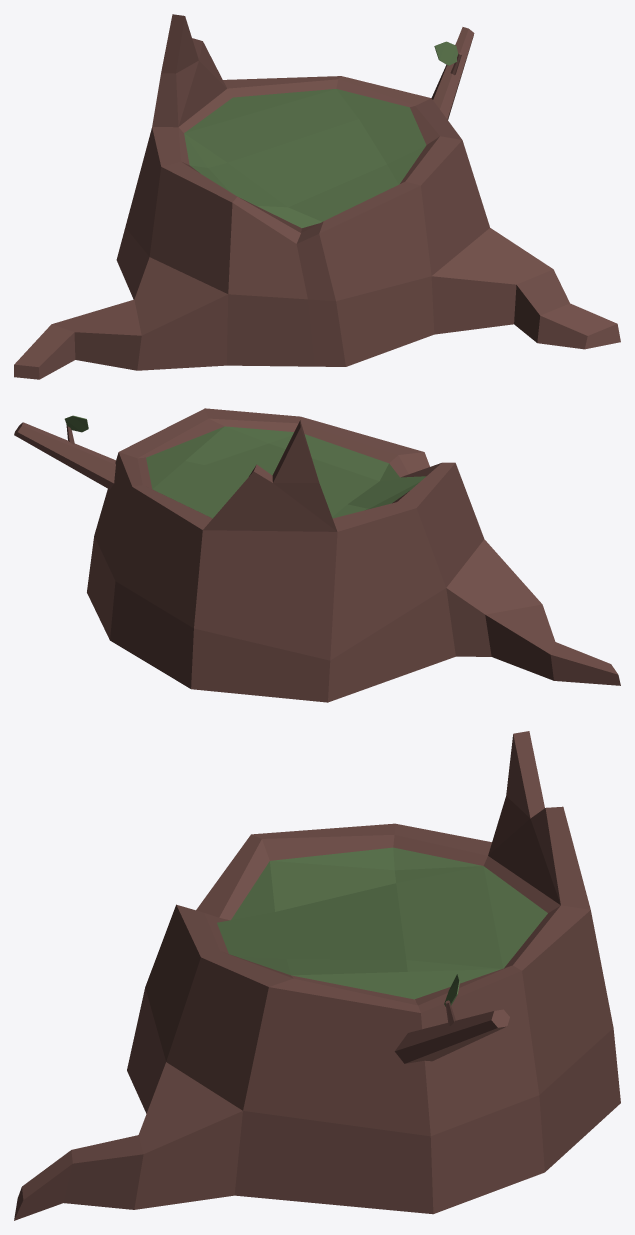
Rendered from Blends_TreeStump_Moss.glb.
3 renders of one model, top to bottom at view 1: azimuth 30°, elevation 25°; view 2: azimuth 150°, elevation 25°; view 3: azimuth 270°, elevation 25°, orthographic. The views are drawn at different scales.
Visible parts, largest first — view 1: TreeStump_Moss; view 2: TreeStump_Moss; view 3: TreeStump_Moss.
Boxes of the visible parts, x1,y1,x2,y2 form: TreeStump_Moss: (14,14,620,379); TreeStump_Moss: (14,408,620,702); TreeStump_Moss: (14,731,620,1220).
Size of the model in its own units: 1.36 by 0.6216 by 1.03.
